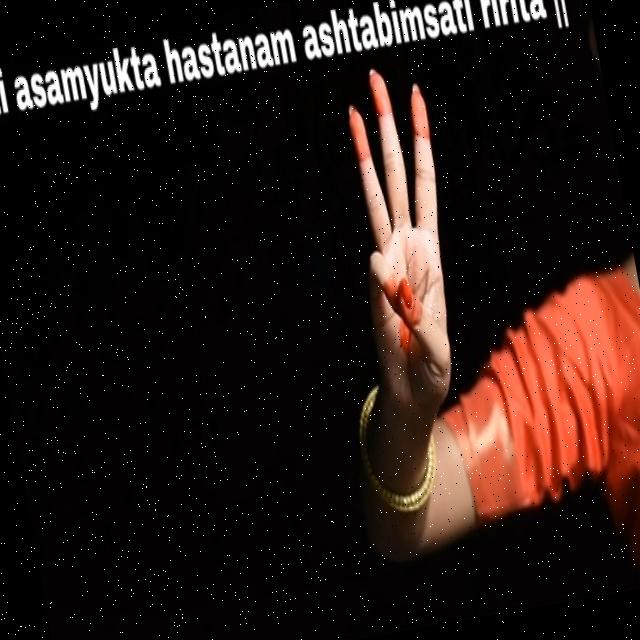Trishula: (312, 48, 490, 407)
bangle: (348, 364, 451, 539)
text: (0, 0, 577, 138)
